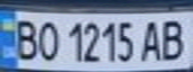1: (100, 18, 121, 63), (63, 18, 84, 63)
2: (81, 18, 103, 63)
5: (115, 17, 139, 63)
A: (139, 17, 166, 62)
B: (9, 16, 42, 62), (157, 16, 190, 61)
O: (33, 17, 60, 62)
